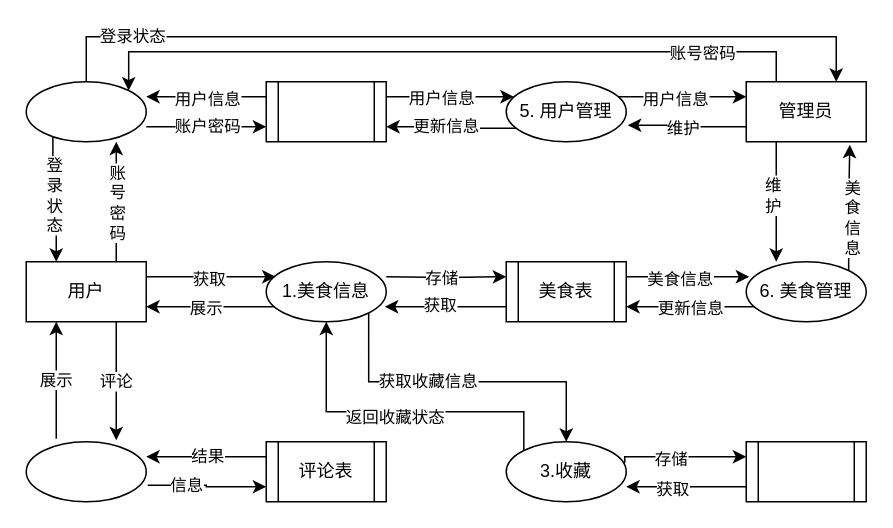
The diagram is 893 pixels wide and 528 high, and some of its shapes have lost their labels. The centre of each missing label's shape, as x and y in pixels:
"2.评论信息" belongs at [85,471].
"4. 登录" belongs at [85,111].
"收藏表" belongs at [805,471].
"用户表" belongs at [325,111].
